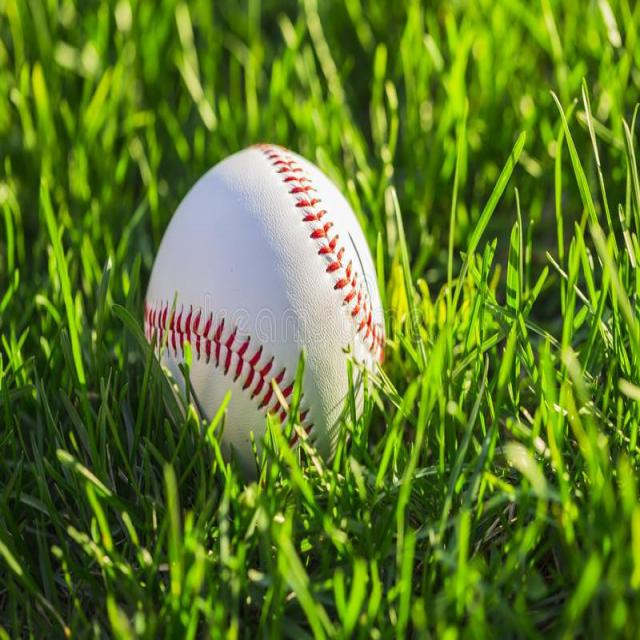baseball: (143, 139, 392, 479)
